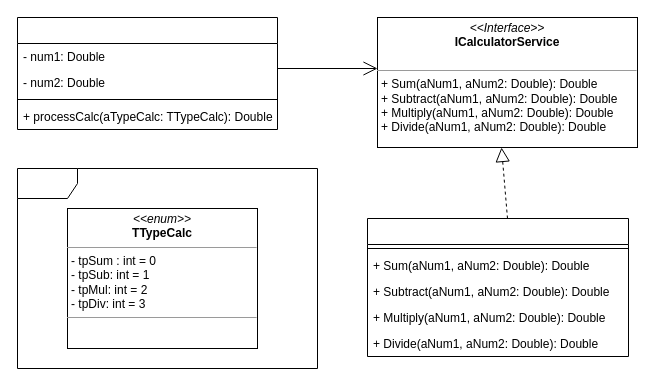
This 655x386 diagram has some shape labels left out. Here are the shapes that lost their labels. From the top down, the box of each, then its label:
(16, 16, 278, 130): TCalculatorService
(366, 218, 628, 356): TCalculatorServiceDefault
